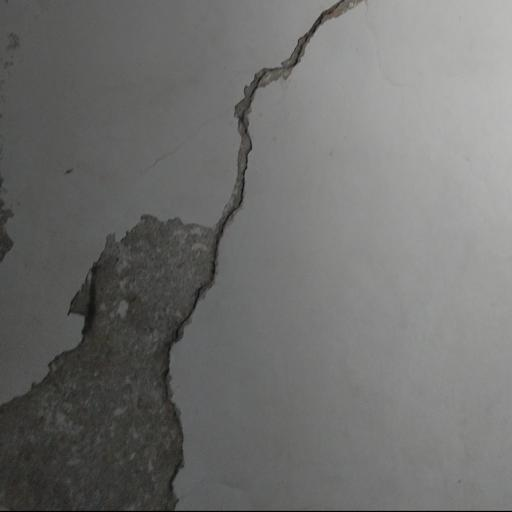major_crack: (0, 0, 371, 512)
